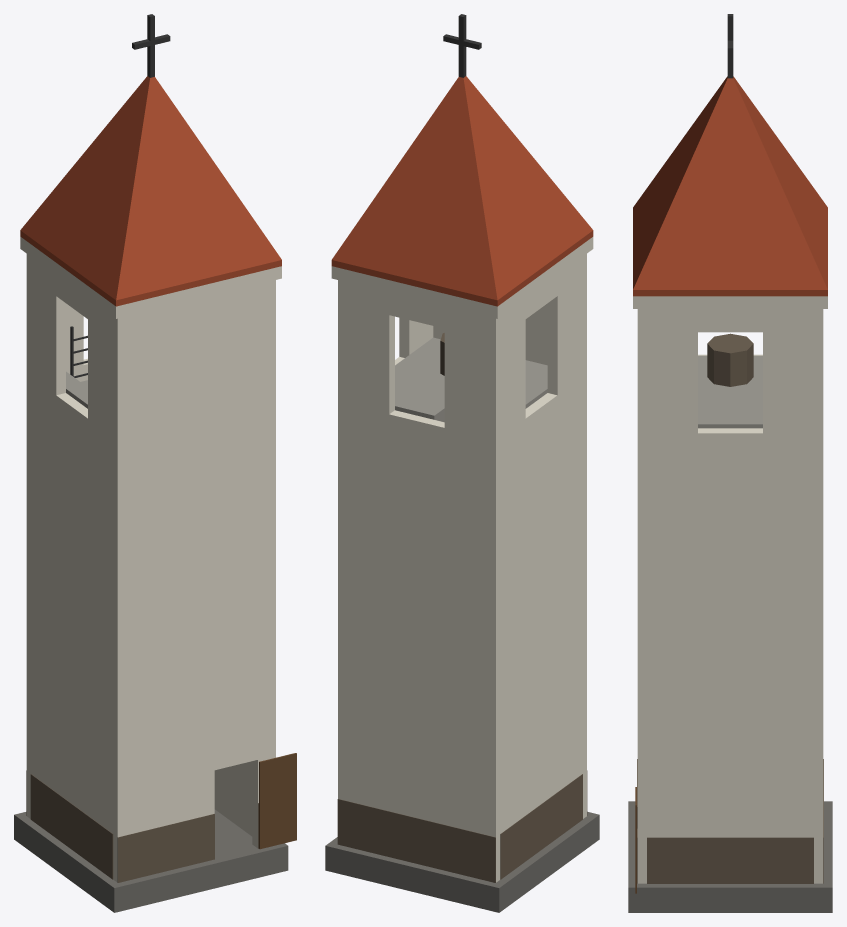
File: torre_igreja_a.glb
3 views of the same model, side by side, from view 1: azimuth 30°, elevation 25°; view 2: azimuth 150°, elevation 25°; view 3: azimuth 270°, elevation 25° (orthographic).
Parts seen in each view (by area): view 1: torre_igreja_a; view 2: torre_igreja_a; view 3: torre_igreja_a.
Boxes of the visible parts, x1,y1,x2,y2 form: torre_igreja_a: (14,14,296,912); torre_igreja_a: (325,14,599,912); torre_igreja_a: (628,14,832,912).
Bounding box in the file's own units: 4.7 × 20.3 × 4.4.
